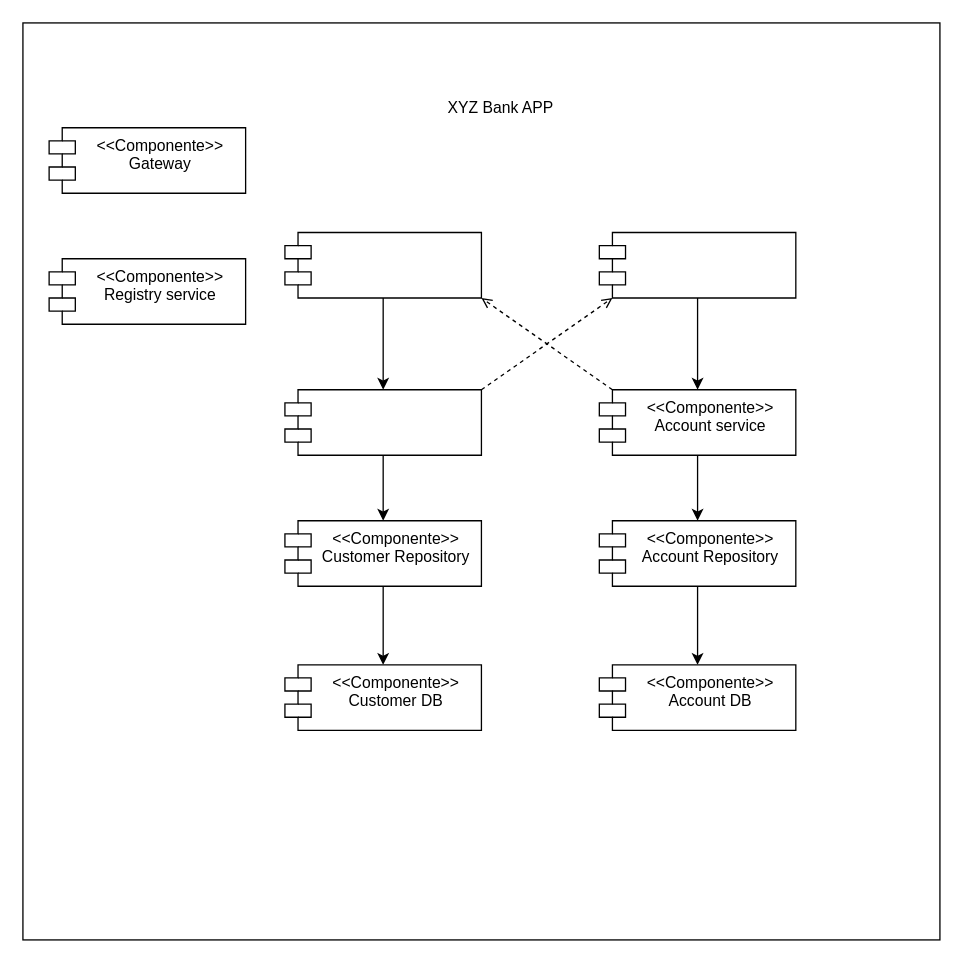
This 963x963 diagram has some shape labels left out. Each missing label, with the centre of its shape:
<<Componente>> Account Api Delegate: point 697,264
<<Componente>> Customer Api Delegate: point 382,264
<<Componente>> Customer service: point 382,421
